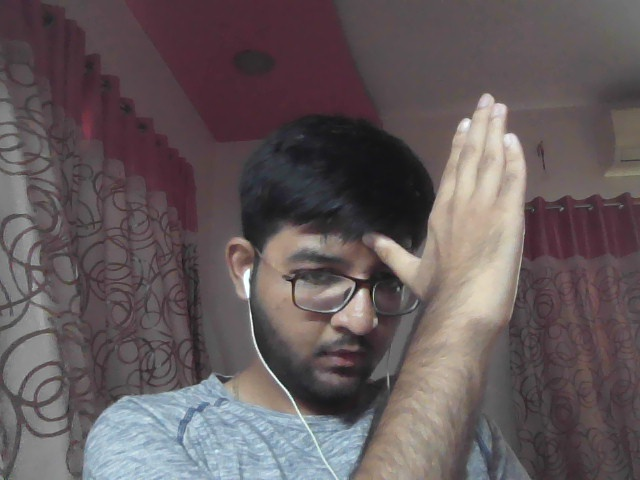પિતા: (355, 84, 563, 345)
